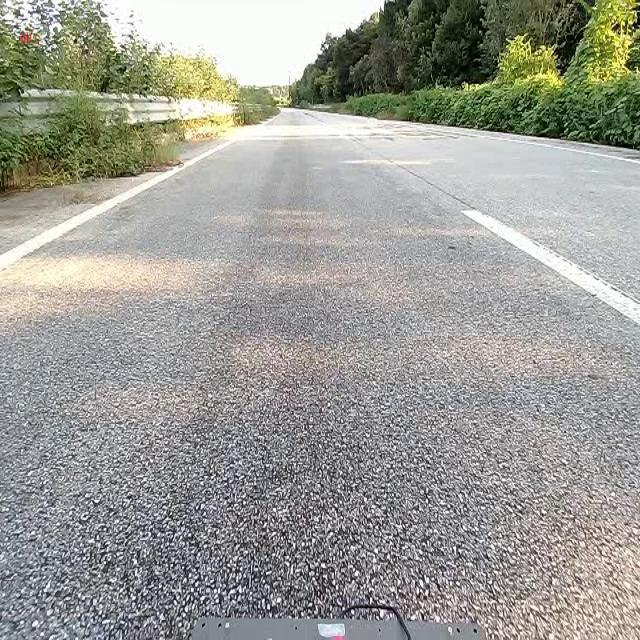Lane: (2, 132, 237, 281), (0, 140, 235, 271), (462, 206, 640, 331), (461, 209, 639, 325)
